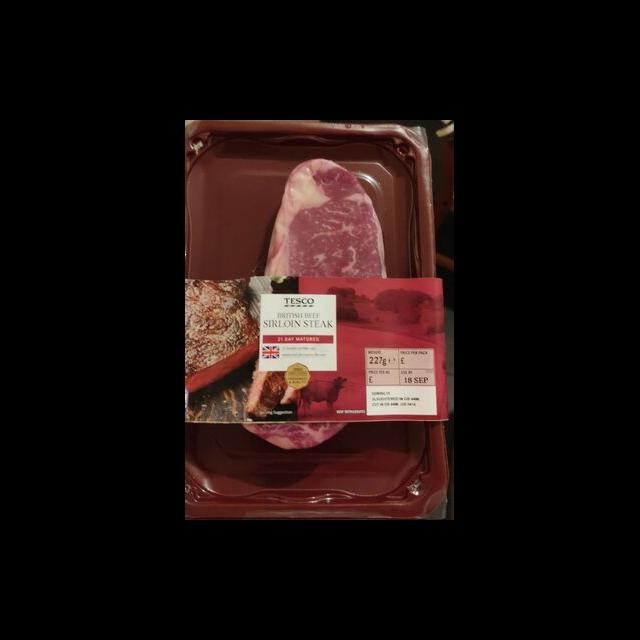beef: (248, 159, 390, 449)
